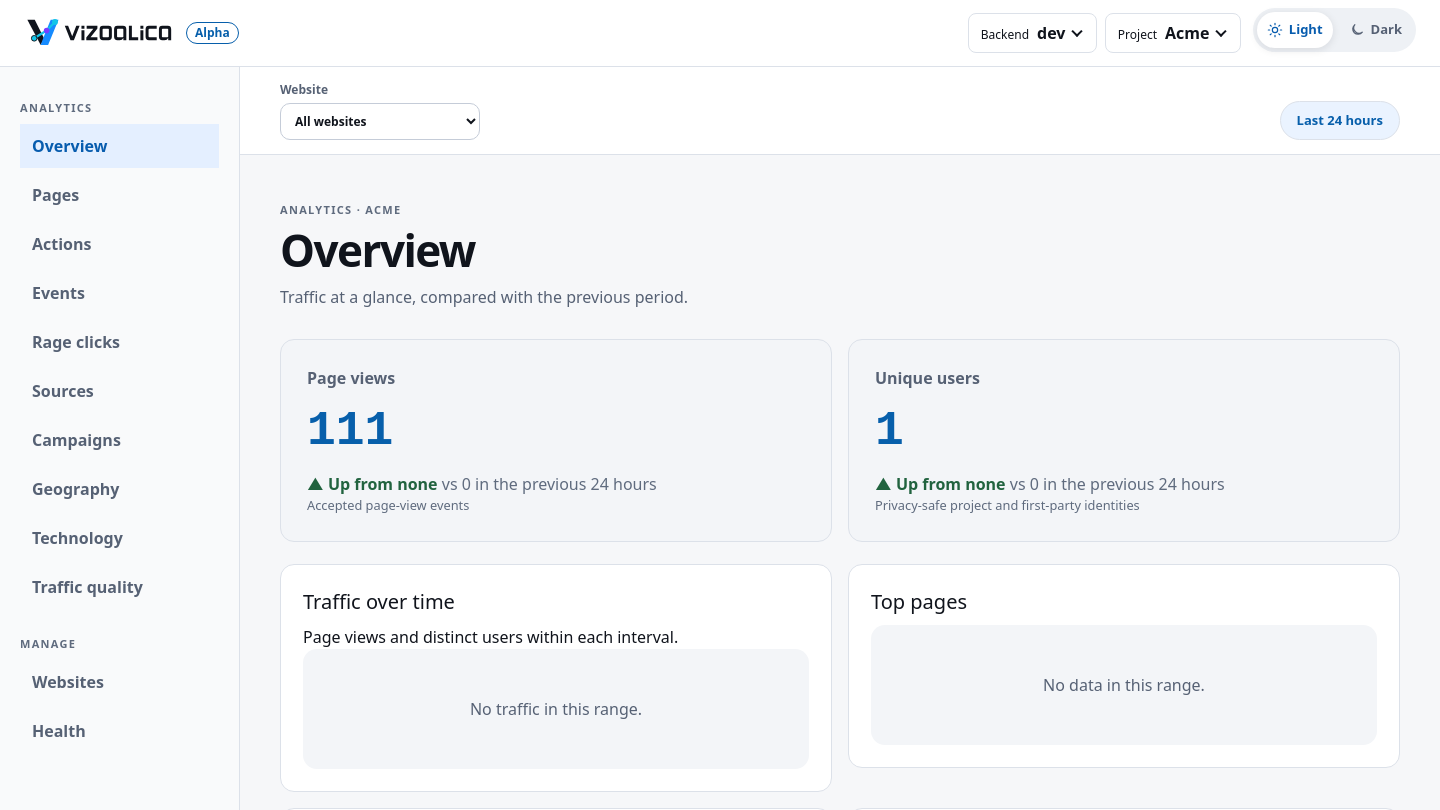
Test case: analytics overview › keeps headings in place while loading and never shows numbers from the previous scope
Check: the text "111" is shown, box left=307, top=404, right=393, bottom=458
Select "Docs" in the dropdown labelled "Website": [380, 122] box left=280, top=103, right=480, bottom=140
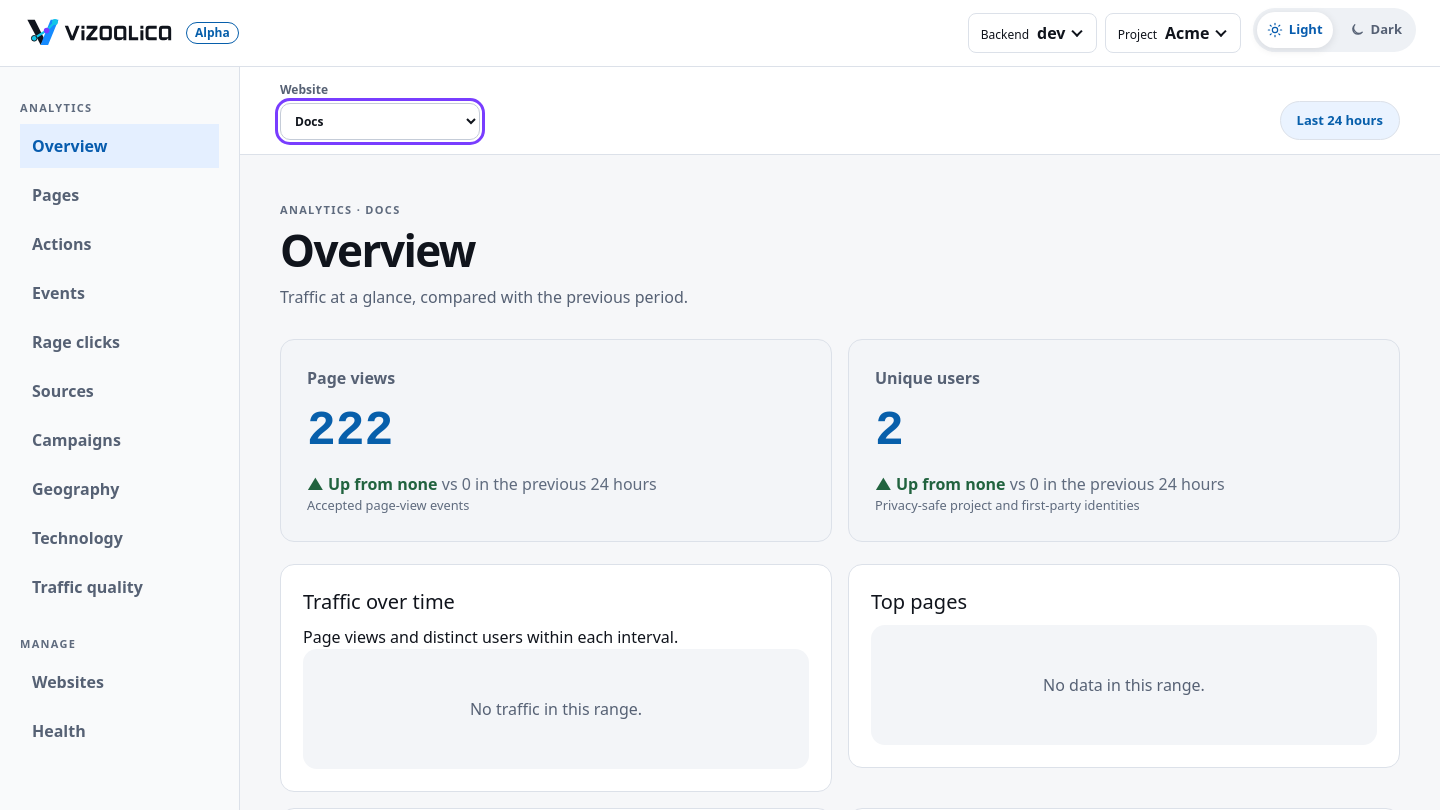
Check: the heading "Overview" is shown, box left=280, top=220, right=475, bottom=280
Check: the text "111" is gone
Check: the text "222" is shown, box left=307, top=404, right=393, bottom=458
